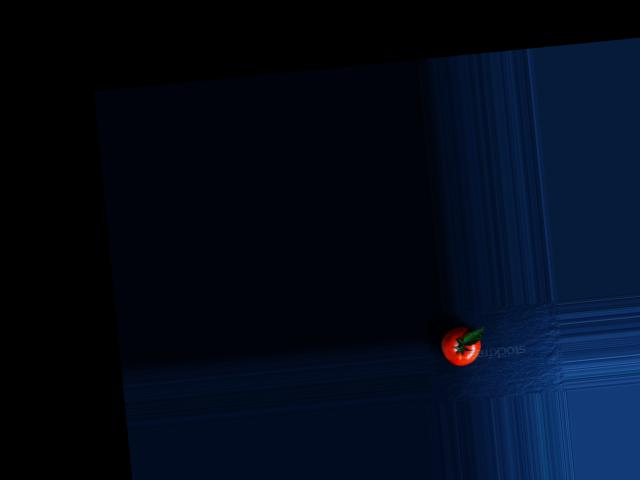tomato: (439, 325, 482, 367)
